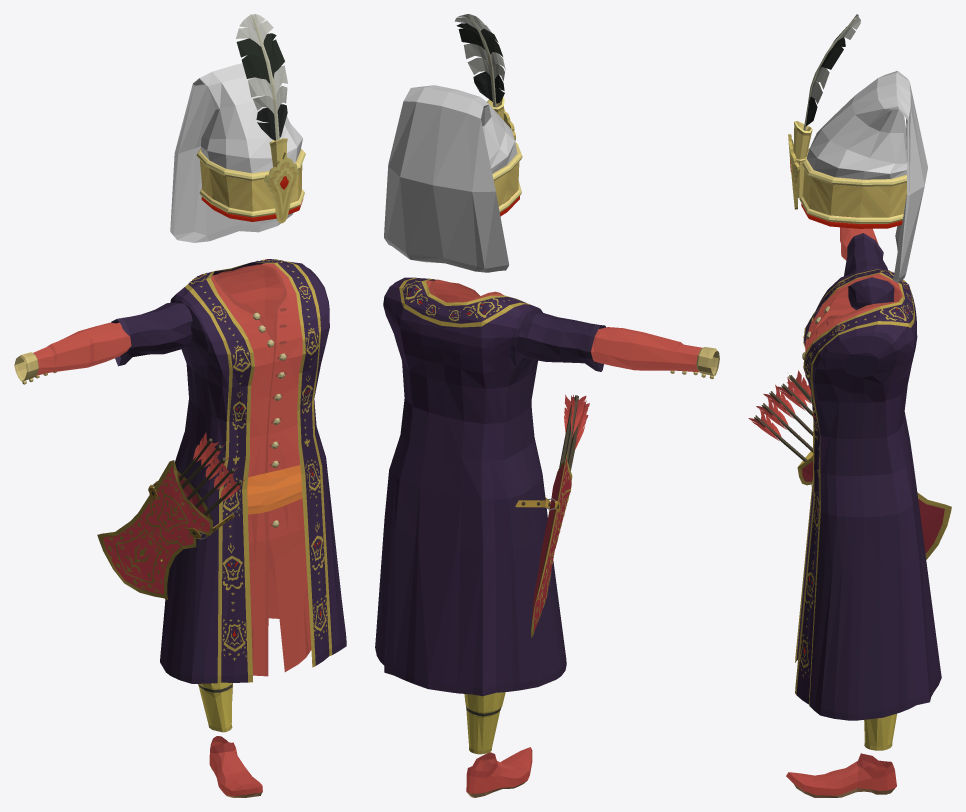
File: ottomanJanissaryFemale.glb
The picture shows the model from 3 angles, left to right: view 1: azimuth 30°, elevation 25°; view 2: azimuth 150°, elevation 25°; view 3: azimuth 270°, elevation 25°; orthographic projection. The views are drawn at different scales.
Visible parts, largest first — view 1: ottomanJanissaryBody, ottomanJanissaryHat, ottomanJanissaryQuiver, ottomanJanissaryLowerArm, ottomanJanissaryUpperArm, ottomanJanissaryShoes, ottomanJanissaryLowerLeg; view 2: ottomanJanissaryBody, ottomanJanissaryHat, ottomanJanissaryLowerArm, ottomanJanissaryQuiver, ottomanJanissaryUpperArm, ottomanJanissaryShoes, ottomanJanissaryLowerLeg; view 3: ottomanJanissaryBody, ottomanJanissaryHat, ottomanJanissaryQuiver, ottomanJanissaryShoes, ottomanJanissaryUpperArm, ottomanJanissaryLowerLeg, ottomanJanissaryLowerArm.
Part boxes in pixels (bbox=[...]): ottomanJanissaryBody: bbox=[160, 259, 346, 683]; ottomanJanissaryHat: bbox=[170, 14, 305, 242]; ottomanJanissaryQuiver: bbox=[97, 432, 246, 599]; ottomanJanissaryLowerArm: bbox=[14, 322, 131, 384]; ottomanJanissaryUpperArm: bbox=[111, 302, 192, 366]; ottomanJanissaryShoes: bbox=[209, 736, 262, 797]; ottomanJanissaryLowerLeg: bbox=[198, 682, 232, 732]; ottomanJanissaryBody: bbox=[375, 277, 566, 696]; ottomanJanissaryHat: bbox=[384, 14, 522, 272]; ottomanJanissaryLowerArm: bbox=[593, 327, 719, 378]; ottomanJanissaryQuiver: bbox=[515, 394, 589, 637]; ottomanJanissaryUpperArm: bbox=[515, 311, 605, 371]; ottomanJanissaryShoes: bbox=[466, 747, 532, 797]; ottomanJanissaryLowerLeg: bbox=[464, 692, 505, 754]; ottomanJanissaryBody: bbox=[795, 269, 941, 720]; ottomanJanissaryHat: bbox=[788, 14, 927, 283]; ottomanJanissaryQuiver: bbox=[748, 370, 951, 559]; ottomanJanissaryShoes: bbox=[786, 753, 896, 797]; ottomanJanissaryUpperArm: bbox=[844, 233, 894, 309]; ottomanJanissaryLowerLeg: bbox=[864, 713, 896, 750]; ottomanJanissaryLowerArm: bbox=[839, 216, 878, 260].
Size of the model in its own units: 1.06 by 2.38 by 0.5549.
